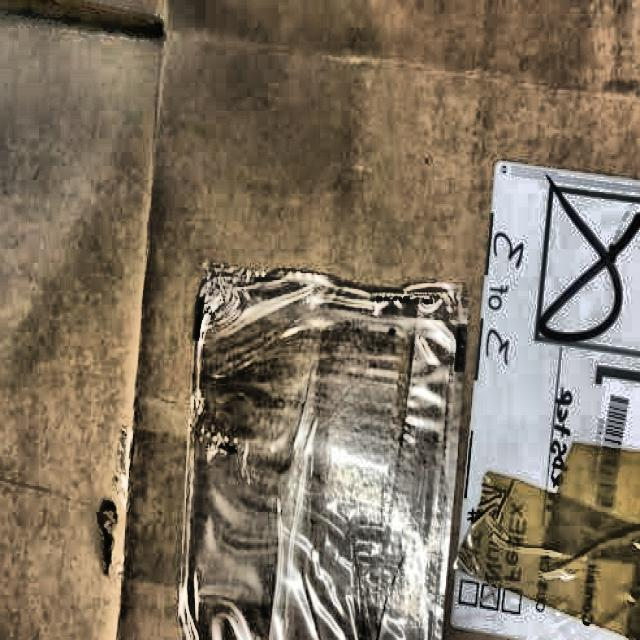cardboard: (177, 261, 471, 640), (438, 157, 640, 640)
